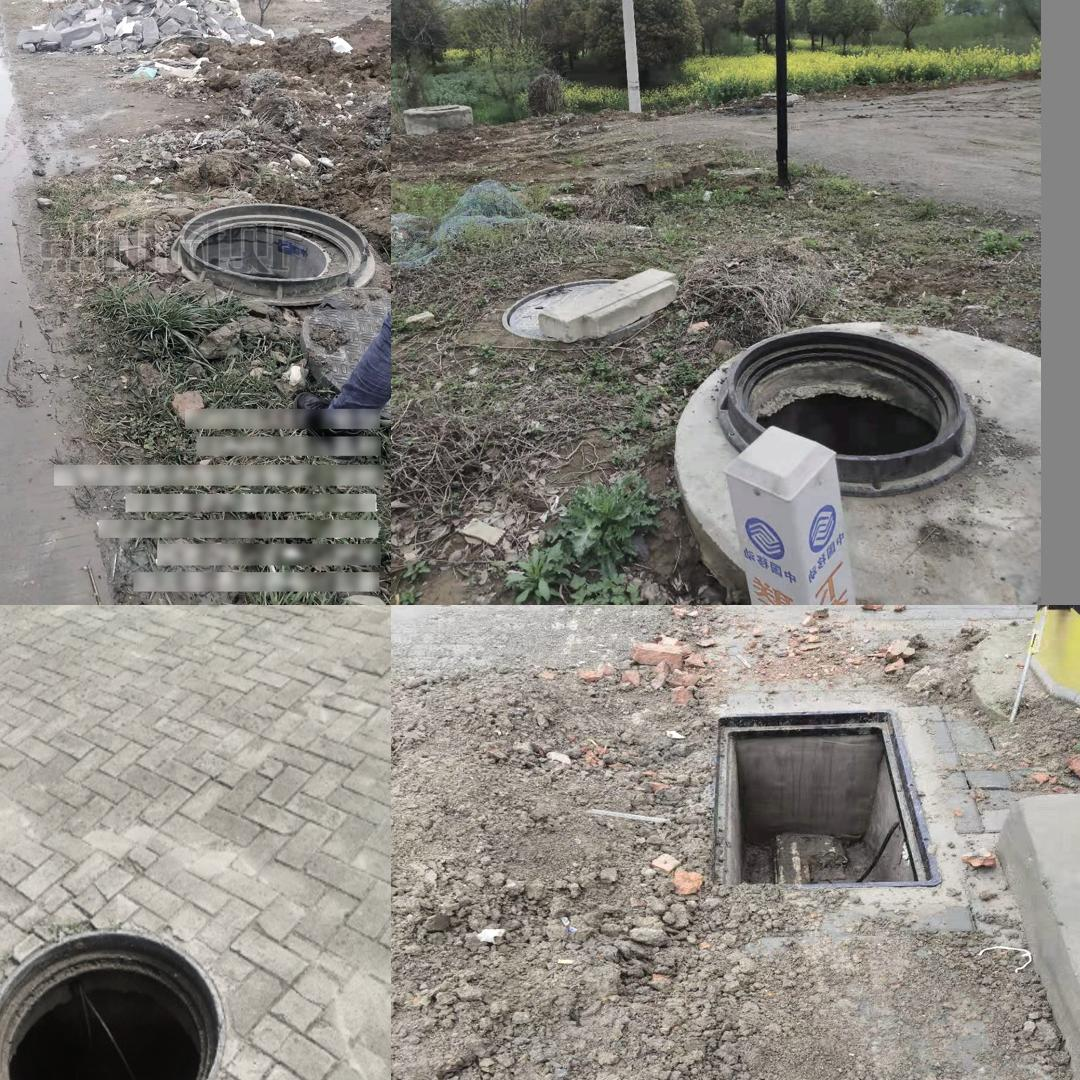lose: (696, 705, 945, 898), (714, 324, 982, 491), (0, 929, 226, 1080), (170, 204, 374, 301)
